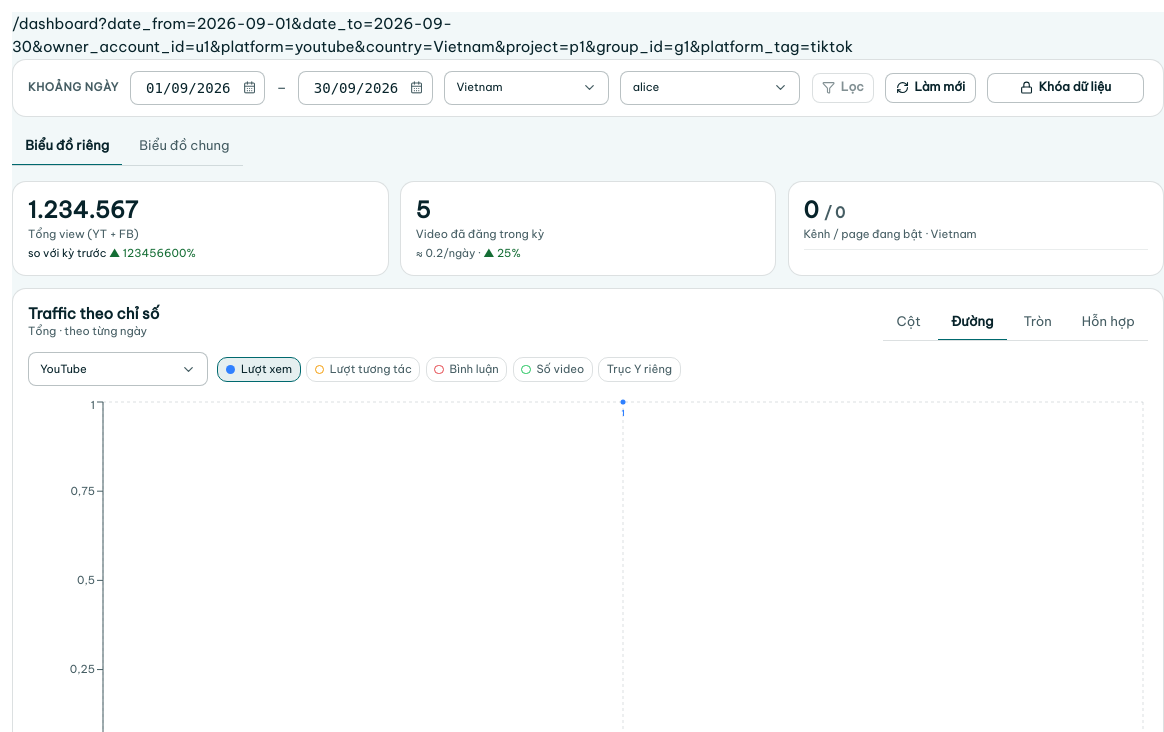
Scenario: Dashboard — Khóa dữ liệu › bấm 'Khóa dữ liệu' => đổi thành 'Mở khóa dữ liệu (còn 60 phút)', có ghi chú, 'Làm mới' bị vô hiệu; mở khóa thì trở lại
Expected: the button "Làm mới" is enabled, [885, 73, 976, 103]
Click the button "Khóa dữ liệu" at (1066, 88), box [987, 73, 1144, 103]
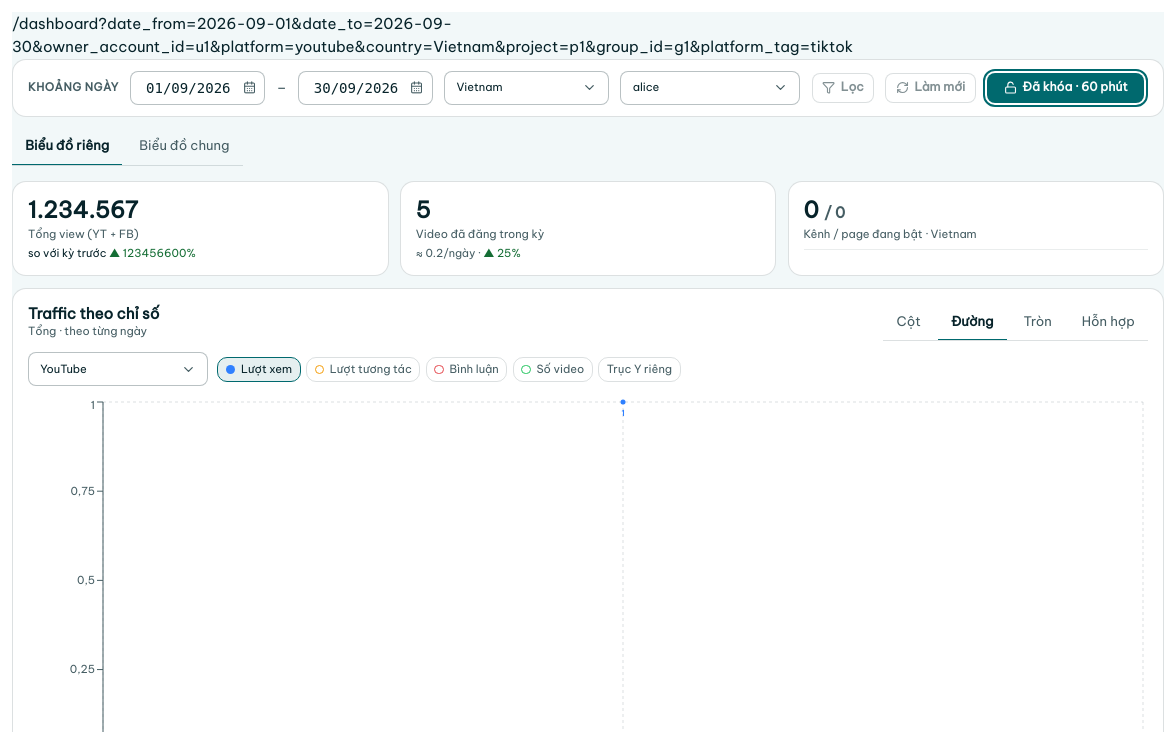
Expected: the button with aria-label "Mở khóa dữ liệu (còn 60 phút)" reads "Đã khóa · 60 phút"
Expected: the button "Làm mới" is disabled, [885, 73, 976, 103]
Click the button with aria-label "Mở khóa dữ liệu (còn 60 phút)" at (1066, 88), box [987, 73, 1144, 103]
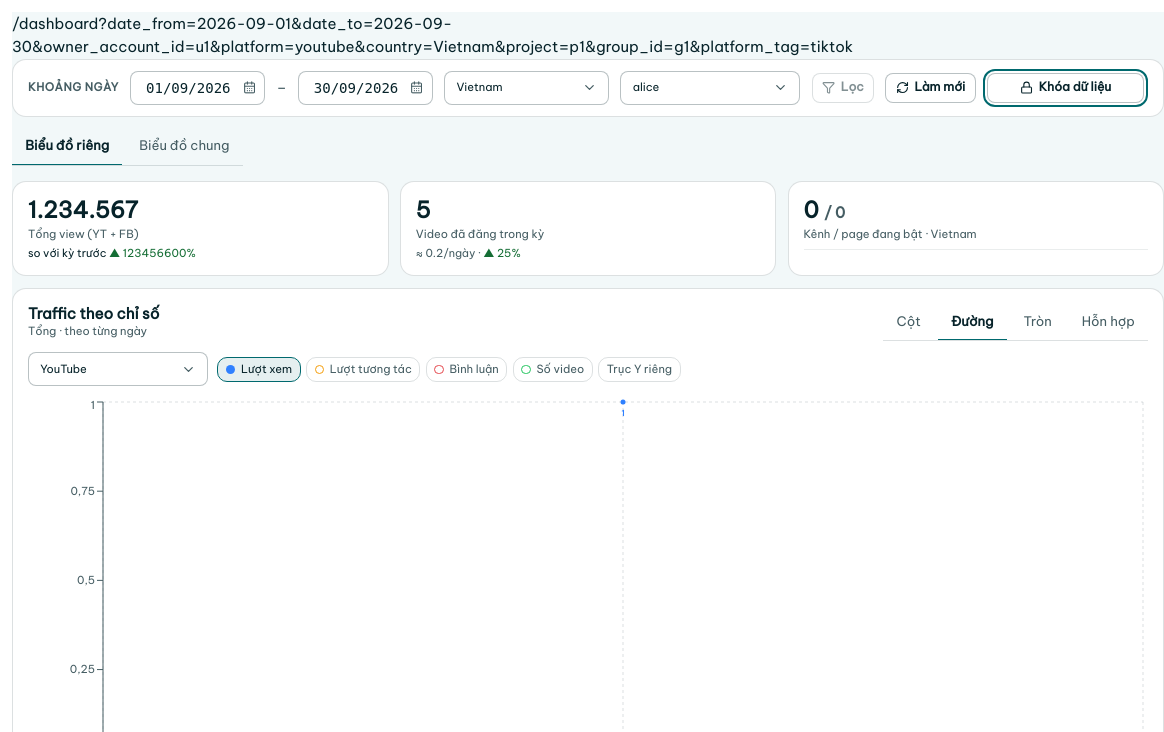
Expected: the button "Làm mới" is enabled, [885, 73, 976, 103]
